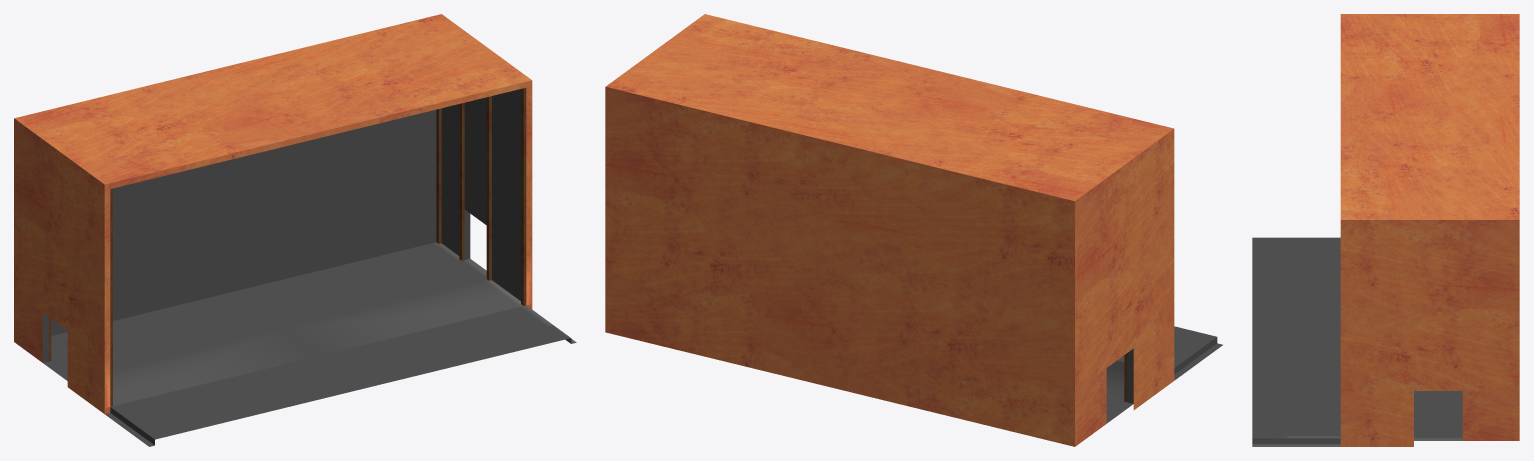
The model's file is SM_Studio01.FBX.
3 renders of one model, left to right at view 1: azimuth 30°, elevation 25°; view 2: azimuth 150°, elevation 25°; view 3: azimuth 270°, elevation 25°, orthographic. The views are drawn at different scales.
Visible parts, largest first — view 1: Studio; view 2: Studio; view 3: Studio.
Part boxes in pixels (x1=…): Studio: x1=14, y1=14, x2=576, y2=446; Studio: x1=605, y1=14, x2=1222, y2=446; Studio: x1=1252, y1=14, x2=1519, y2=446.
Size of the model in its own units: 1181 by 606 by 647.
Materials: 1 (1 with a texture image).
